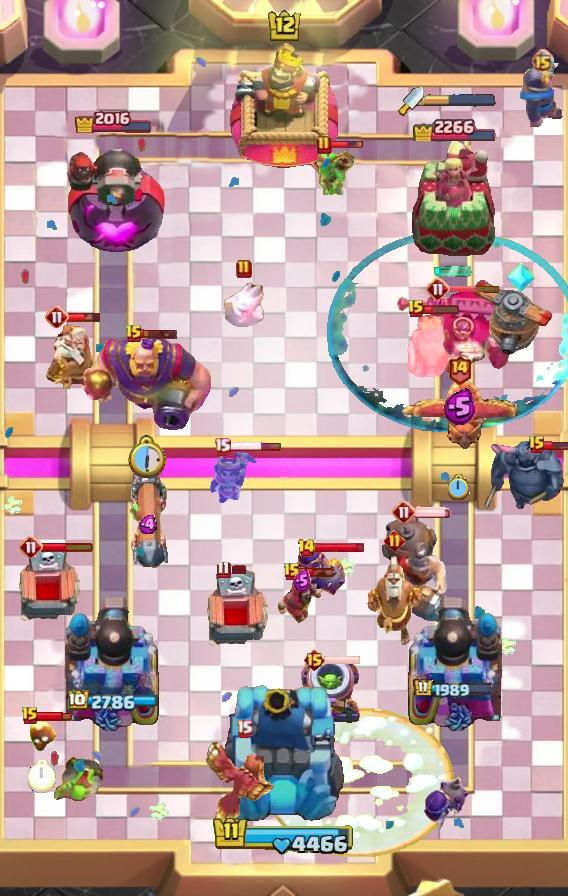bar: (409, 138, 497, 256)
bar-level: (50, 756, 104, 804)
bat: (222, 281, 266, 327)
battle-healer: (125, 462, 173, 574)
bomber: (28, 721, 56, 753)
bomber-evolution: (209, 447, 264, 509)
bowler: (276, 577, 328, 625)
clock: (212, 815, 356, 857)
dark-prince: (464, 273, 562, 355)
electro-spirit: (443, 388, 477, 426), (293, 568, 311, 591), (139, 514, 159, 533)
elixir: (126, 435, 166, 479), (28, 759, 56, 792), (448, 474, 470, 500)
elixir-collector: (366, 555, 422, 651), (44, 319, 104, 389)
elixir-golem-mid: (13, 544, 83, 630), (201, 569, 271, 655)
emote: (315, 541, 366, 554), (41, 541, 94, 553), (228, 441, 282, 452), (447, 284, 501, 293), (414, 506, 452, 518), (141, 328, 178, 340), (324, 654, 361, 666), (299, 566, 335, 578), (66, 311, 101, 323), (36, 710, 71, 722), (423, 304, 461, 315), (330, 140, 364, 150), (544, 439, 568, 451), (228, 565, 248, 576)
firecracker: (519, 63, 564, 129)
giant-snowball: (314, 146, 354, 198)
goblin-ball: (293, 544, 347, 600), (423, 775, 469, 833)
goblin-cage: (298, 656, 362, 726)
golden-knight: (206, 741, 282, 823)
golemite: (484, 441, 568, 515)
ice-spirit: (433, 265, 473, 277)
inferno-tower: (394, 287, 512, 379)
king-tower: (221, 682, 347, 826), (230, 43, 338, 181)
king-tower-bar: (424, 93, 496, 107)
lightning: (77, 334, 215, 430)
mortar-evolution: (403, 312, 457, 378)
mother-witch: (401, 376, 517, 452)
pad_0: (326, 230, 568, 436)
pad_2: (507, 260, 535, 294)
phoenix-big: (266, 707, 454, 857)
selected: (410, 112, 496, 140), (68, 690, 160, 714), (74, 108, 154, 133), (413, 678, 493, 700)
text: (447, 354, 472, 385), (426, 277, 450, 301), (45, 305, 69, 329), (392, 500, 416, 524), (19, 535, 43, 559), (303, 648, 326, 672), (530, 48, 553, 71), (383, 530, 405, 551), (296, 538, 315, 558), (407, 299, 425, 319), (125, 324, 143, 344), (528, 435, 546, 455), (283, 562, 301, 582), (21, 706, 39, 726), (213, 437, 231, 455), (316, 135, 332, 155), (236, 259, 252, 279), (235, 719, 252, 737), (217, 561, 231, 580)
tower-bar: (65, 593, 163, 731), (404, 593, 502, 731), (62, 138, 166, 256)
wizard: (381, 513, 461, 623)
